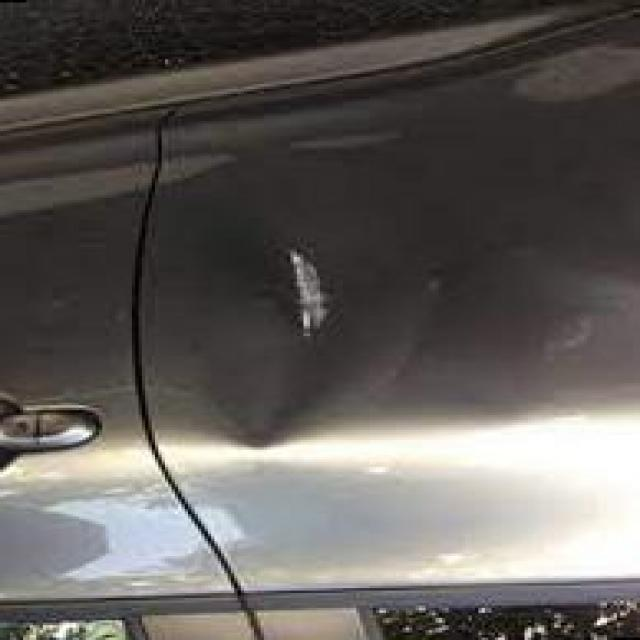dent: (182, 254, 426, 471)
